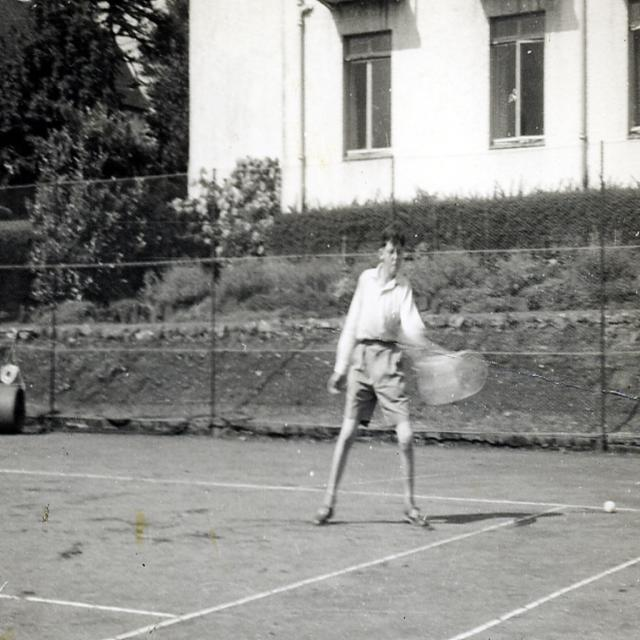Tennis ball: (605, 500, 615, 512)
